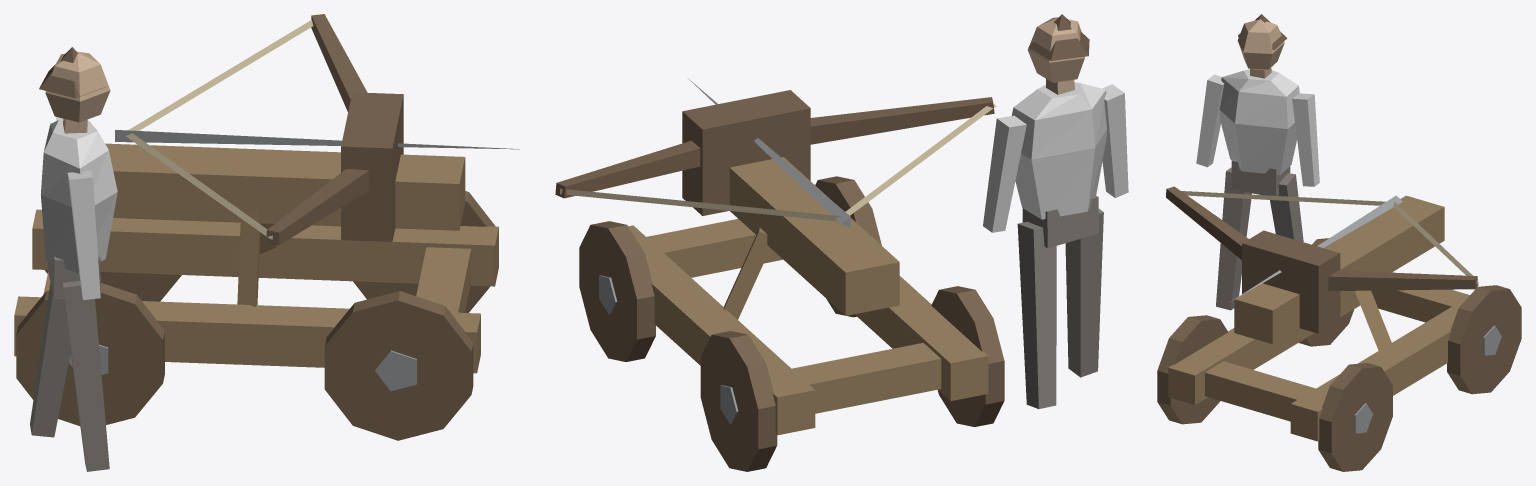
File: ballista.glb
3 views of the same model, side by side, from view 1: azimuth 30°, elevation 25°; view 2: azimuth 150°, elevation 25°; view 3: azimuth 270°, elevation 25° (orthographic). The views are drawn at different scales.
Visible parts, largest first — view 1: LOD0; view 2: LOD0; view 3: LOD0.
Part boxes in pixels (<box>): LOD0: <box>14,14,519,471</box>; LOD0: <box>555,14,1128,471</box>; LOD0: <box>1157,14,1521,471</box>.
Size of what is drawn, in the model's own units: 0.91 by 0.7252 by 0.779.
